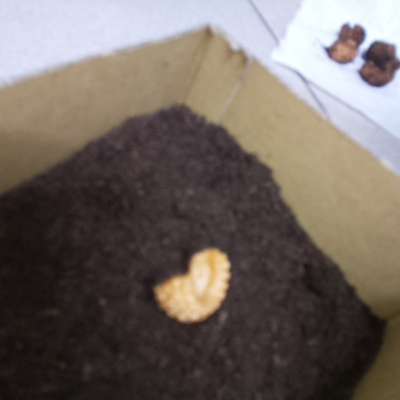eggs: (143, 243, 239, 325)
